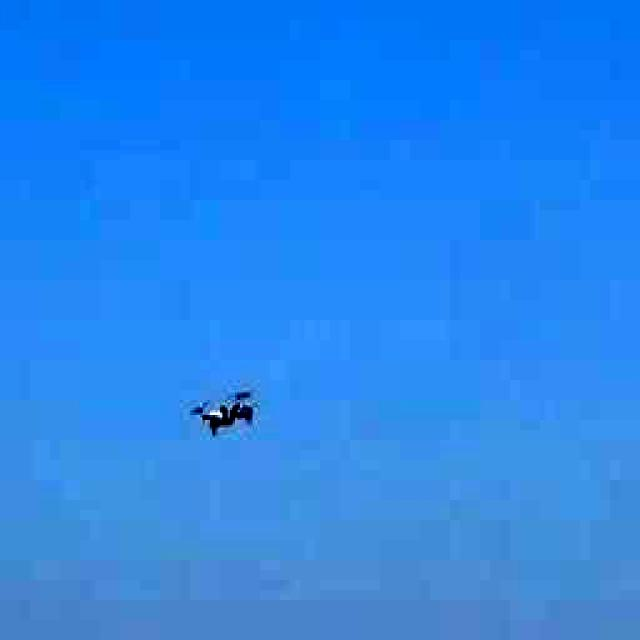bird: (168, 366, 280, 456)
